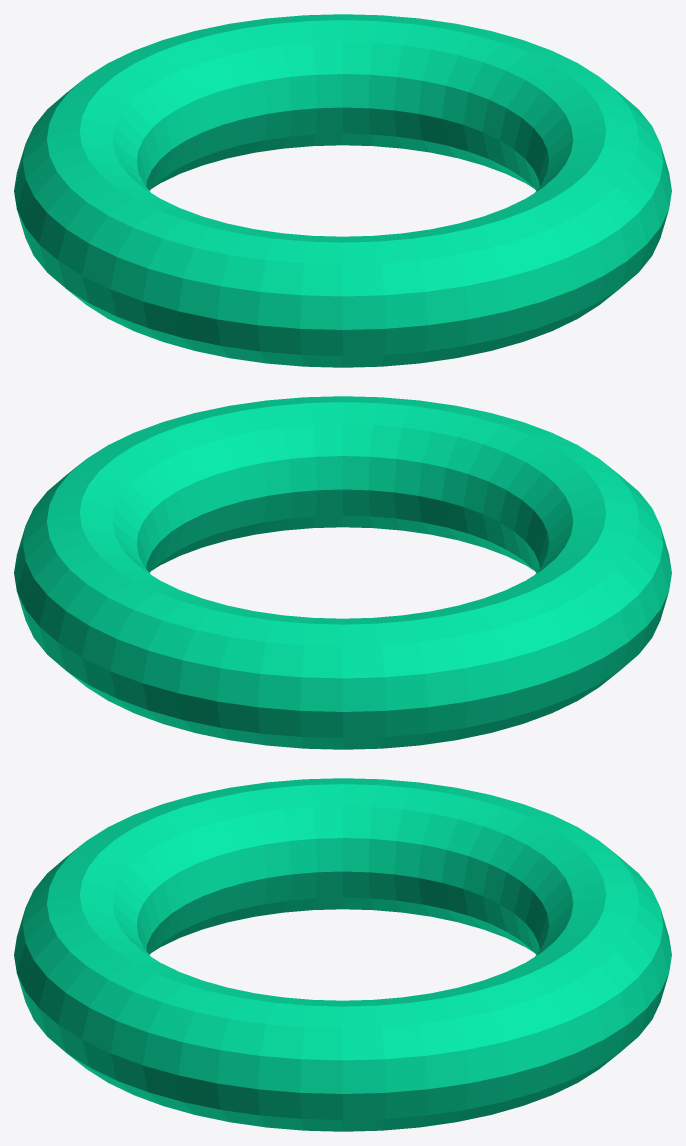
Rendered from davidSphereB2.gltf.
3 views of the same model, one above another, from view 1: azimuth 30°, elevation 25°; view 2: azimuth 150°, elevation 25°; view 3: azimuth 270°, elevation 25° (orthographic).
Visible parts, largest first — view 1: davidSphereB2; view 2: davidSphereB2; view 3: davidSphereB2.
Boxes of the visible parts, <box> form: davidSphereB2: <box>14,14,671,367</box>; davidSphereB2: <box>14,396,671,749</box>; davidSphereB2: <box>14,778,671,1131</box>.
Bounding box in the file's own units: 0.8064 × 0.1613 × 0.8064.
